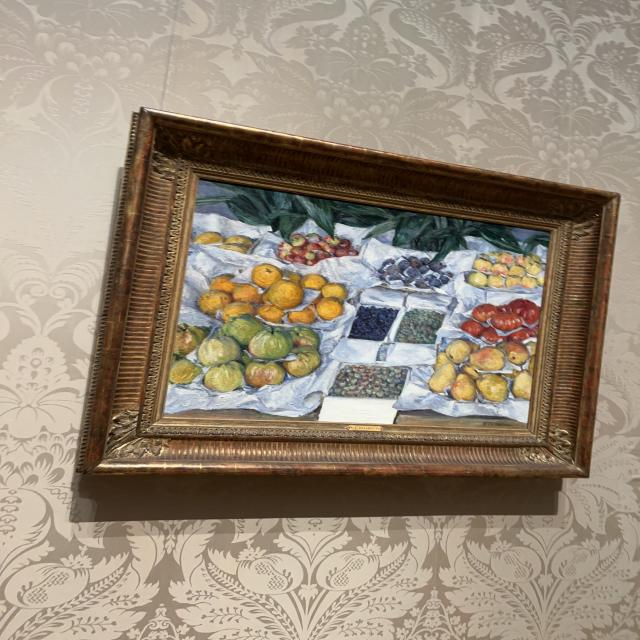fruits: (166, 185, 541, 425)
